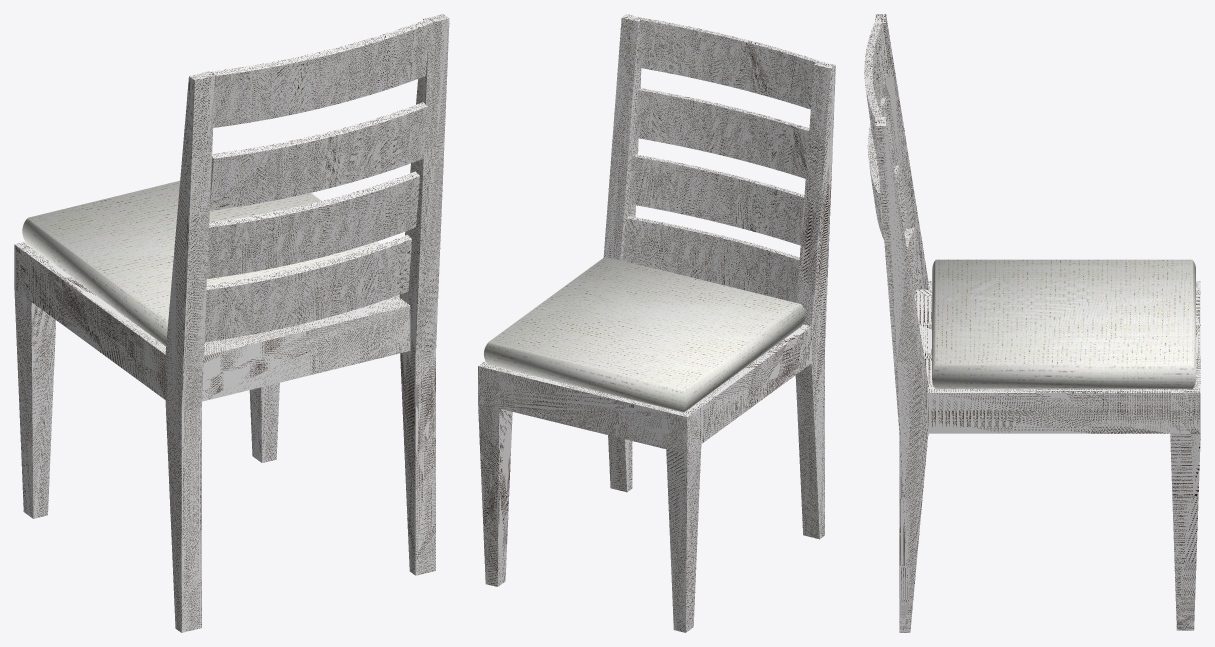
3 views of the same model, side by side, from view 1: azimuth 30°, elevation 25°; view 2: azimuth 150°, elevation 25°; view 3: azimuth 270°, elevation 25° (orthographic). The views are drawn at different scales.
Visible parts, largest first — view 1: mesh3_mesh3-geometry, mesh4_mesh4-geometry, mesh2_mesh2-geometry, mesh1_mesh1-geometry, mesh5_mesh5-geometry; view 2: mesh3_mesh3-geometry, mesh1_mesh1-geometry, mesh4_mesh4-geometry, mesh5_mesh5-geometry, mesh2_mesh2-geometry; view 3: mesh1_mesh1-geometry, mesh4_mesh4-geometry, mesh2_mesh2-geometry, mesh5_mesh5-geometry, mesh3_mesh3-geometry.
Part boxes in pixels (x1,y1,x2,y2): mesh3_mesh3-geometry: [204, 19, 429, 342]; mesh4_mesh4-geometry: [165, 14, 449, 632]; mesh2_mesh2-geometry: [31, 254, 410, 401]; mesh1_mesh1-geometry: [22, 180, 380, 346]; mesh5_mesh5-geometry: [14, 242, 279, 518]; mesh3_mesh3-geometry: [622, 18, 819, 302]; mesh1_mesh1-geometry: [483, 256, 805, 412]; mesh4_mesh4-geometry: [603, 14, 835, 539]; mesh5_mesh5-geometry: [478, 361, 701, 632]; mesh2_mesh2-geometry: [499, 324, 811, 448]; mesh1_mesh1-geometry: [932, 259, 1195, 389]; mesh4_mesh4-geometry: [875, 14, 928, 632]; mesh2_mesh2-geometry: [914, 281, 1200, 433]; mesh5_mesh5-geometry: [1170, 281, 1200, 630]; mesh3_mesh3-geometry: [864, 22, 920, 295].
Size of the model in its own units: 0.3757 by 0.7945 by 0.4771.
3 materials, 2 textured.
